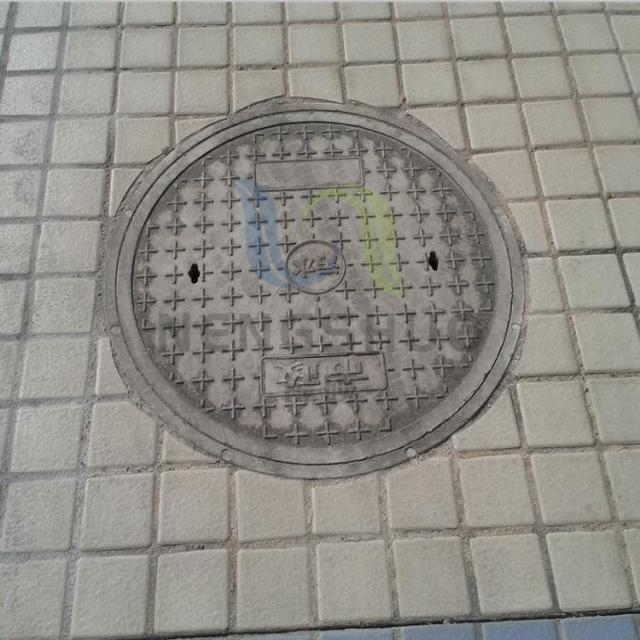manhole: (94, 97, 530, 484)
